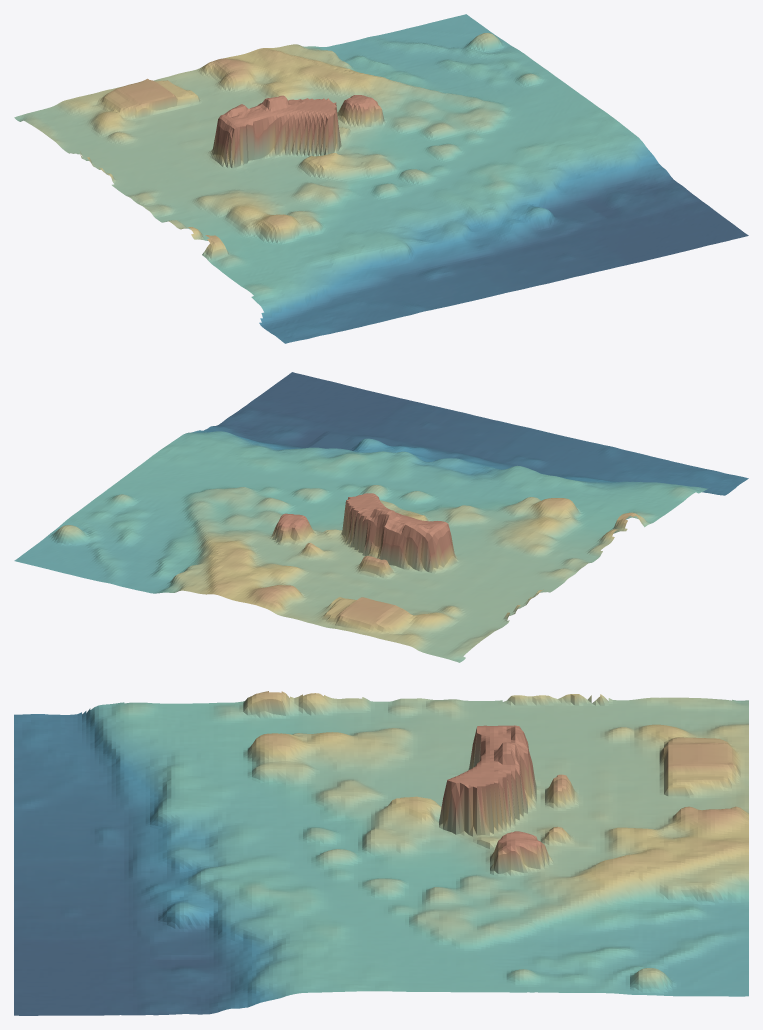
The model's file is oma084_disp_ours.glb.
3 renders of one model, top to bottom at view 1: azimuth 30°, elevation 25°; view 2: azimuth 150°, elevation 25°; view 3: azimuth 270°, elevation 25°, orthographic. The views are drawn at different scales.
Visible parts, largest first — view 1: world; view 2: world; view 3: world.
Boxes of the visible parts, <box> form: world: <box>14,14,748,343</box>; world: <box>14,372,748,662</box>; world: <box>14,691,748,1015</box>.
Size of the model in its own units: 328 by 46.4 by 346.
